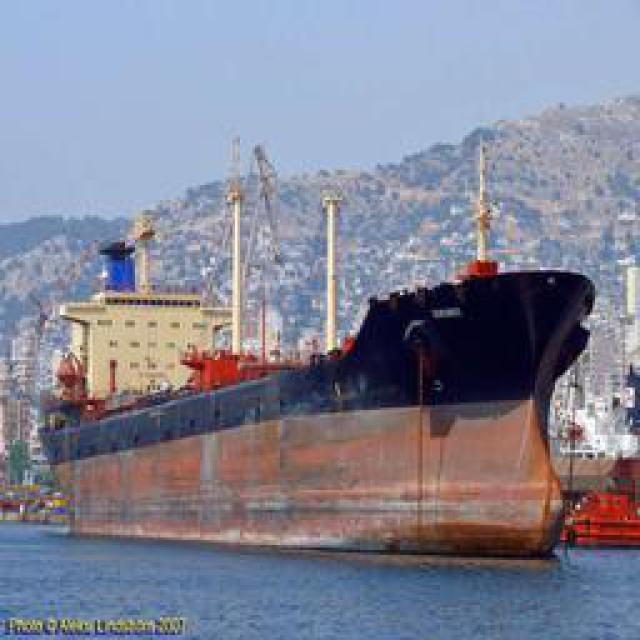Ship: (42, 214, 610, 557)
